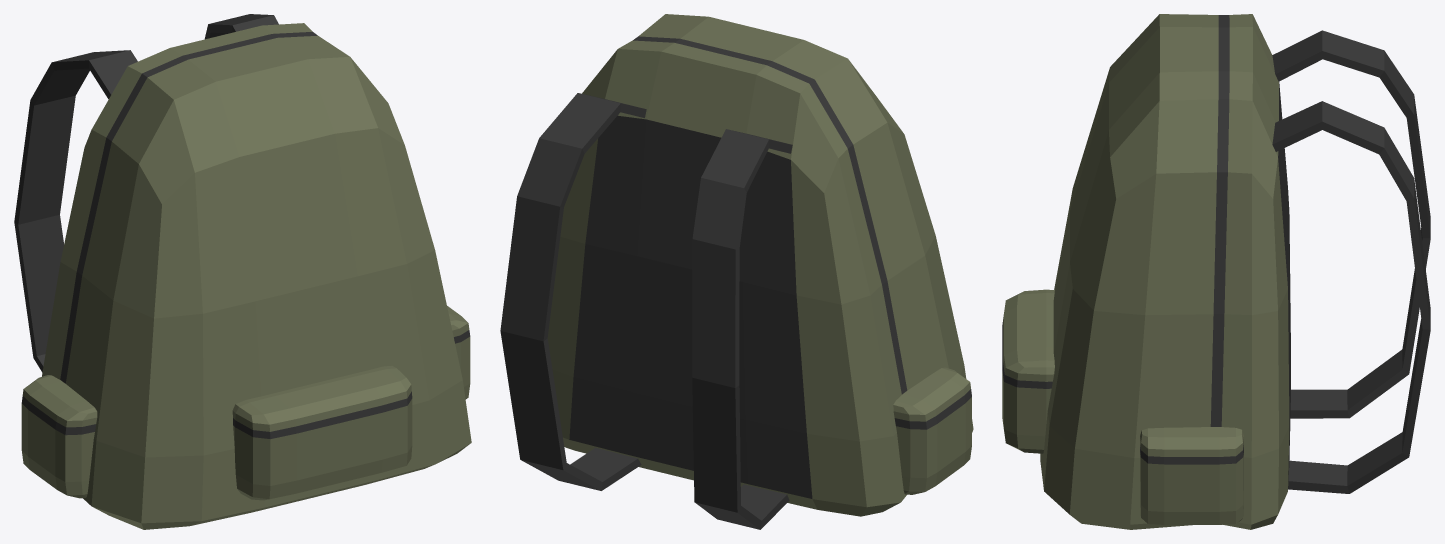
File: Backpack_01.fbx
3 views of the same model, side by side, from view 1: azimuth 30°, elevation 25°; view 2: azimuth 150°, elevation 25°; view 3: azimuth 270°, elevation 25° (orthographic). The views are drawn at different scales.
Parts seen in each view (by area): view 1: Backpack_01; view 2: Backpack_01; view 3: Backpack_01.
Boxes of the visible parts, x1,y1,x2,y2 form: Backpack_01: [14, 14, 471, 529]; Backpack_01: [500, 14, 973, 529]; Backpack_01: [1002, 14, 1430, 529].
Size of the model in its own units: 42.53 by 39.53 by 38.25.
